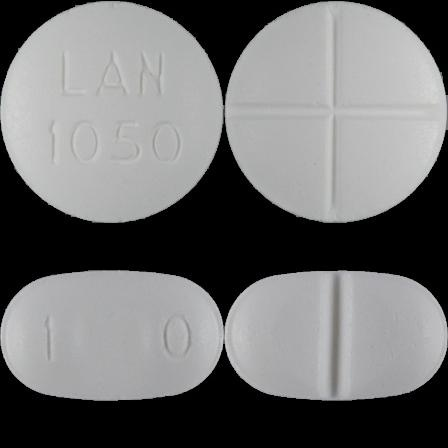67296-0801: (0, 0, 224, 224)
